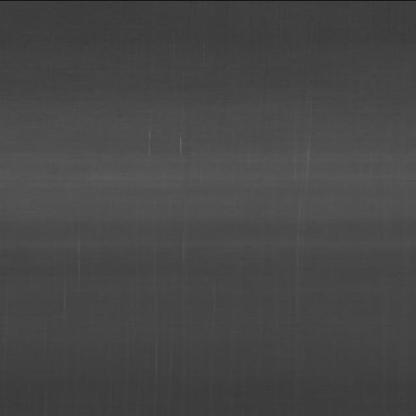waist_folding: (134, 134, 368, 259)
